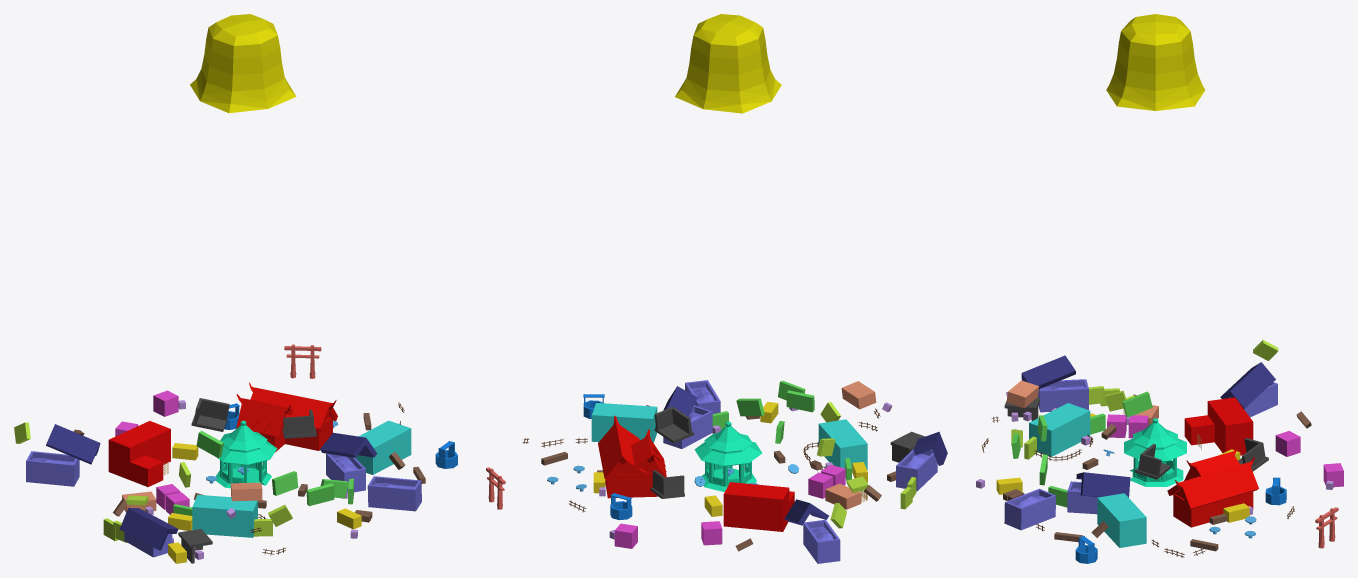
Rendered from TutorialGrayBoxLevel_A.fbx.
3 views of the same model, side by side, from view 1: azimuth 30°, elevation 25°; view 2: azimuth 150°, elevation 25°; view 3: azimuth 270°, elevation 25° (orthographic).
Parts seen in each view (by area): view 1: Bell, HouseUnique.001, HouseUnique, Pagoda_A.001, House_A.001, House_A.002, HouseHollow_A.002, HouseHollow_A.004, Roof_A.002, Roof_A.003, Roof_A.001, Shed_A.002 (+6 smaller); view 2: Bell, HouseUnique.001, HouseUnique, Pagoda_A.001, House_A.002, House_A.001, HouseHollow_A.004, HouseHollow_A.003, Shed_A.003, HouseHollow_A.001, Shed_A.002, Block_E.001 (+4 smaller); view 3: Bell, HouseUnique.001, HouseUnique, Pagoda_A.001, House_A.001, House_A.002, HouseHollow_A.002, HouseHollow_A.003, Roof_A.003, Roof_A.001, Roof_A.002, HouseHollow_A.001 (+8 smaller).
Boxes of the visible parts, box(x1,y1,x2,y2) form: Bell: box(190, 14, 296, 113); HouseUnique.001: box(236, 382, 337, 452); HouseUnique: box(108, 421, 170, 486); Pagoda_A.001: box(216, 420, 277, 488); House_A.001: box(192, 494, 257, 537); House_A.002: box(356, 420, 411, 474); HouseHollow_A.002: box(367, 476, 421, 511); HouseHollow_A.004: box(26, 451, 79, 486); Roof_A.002: box(119, 508, 178, 550); Roof_A.003: box(46, 424, 100, 464); Roof_A.001: box(320, 432, 377, 457); Shed_A.002: box(191, 398, 229, 431); Bell: box(675, 14, 781, 113); HouseUnique.001: box(598, 415, 666, 498); HouseUnique: box(723, 482, 794, 531); Pagoda_A.001: box(694, 421, 762, 491); House_A.002: box(591, 403, 657, 442); House_A.001: box(818, 419, 867, 472); HouseHollow_A.004: box(803, 519, 840, 563); HouseHollow_A.003: box(896, 449, 937, 490); Shed_A.003: box(654, 406, 693, 443); HouseHollow_A.001: box(663, 405, 712, 448); Shed_A.002: box(650, 470, 684, 498); Block_E.001: box(841, 381, 876, 409); Bell: box(1106, 14, 1205, 110); HouseUnique.001: box(1167, 446, 1258, 527); HouseUnique: box(1184, 397, 1253, 455); Pagoda_A.001: box(1124, 418, 1186, 486); House_A.001: box(1029, 403, 1090, 456); House_A.002: box(1097, 493, 1146, 547); HouseHollow_A.002: box(1004, 488, 1055, 530); HouseHollow_A.003: box(1037, 379, 1088, 412); Roof_A.003: box(1220, 362, 1275, 408); Roof_A.001: box(1076, 472, 1130, 497); Roof_A.002: box(1021, 355, 1075, 388); HouseHollow_A.001: box(1067, 481, 1097, 514).
Size of the model in its own units: 5801 by 7277 by 5293.
